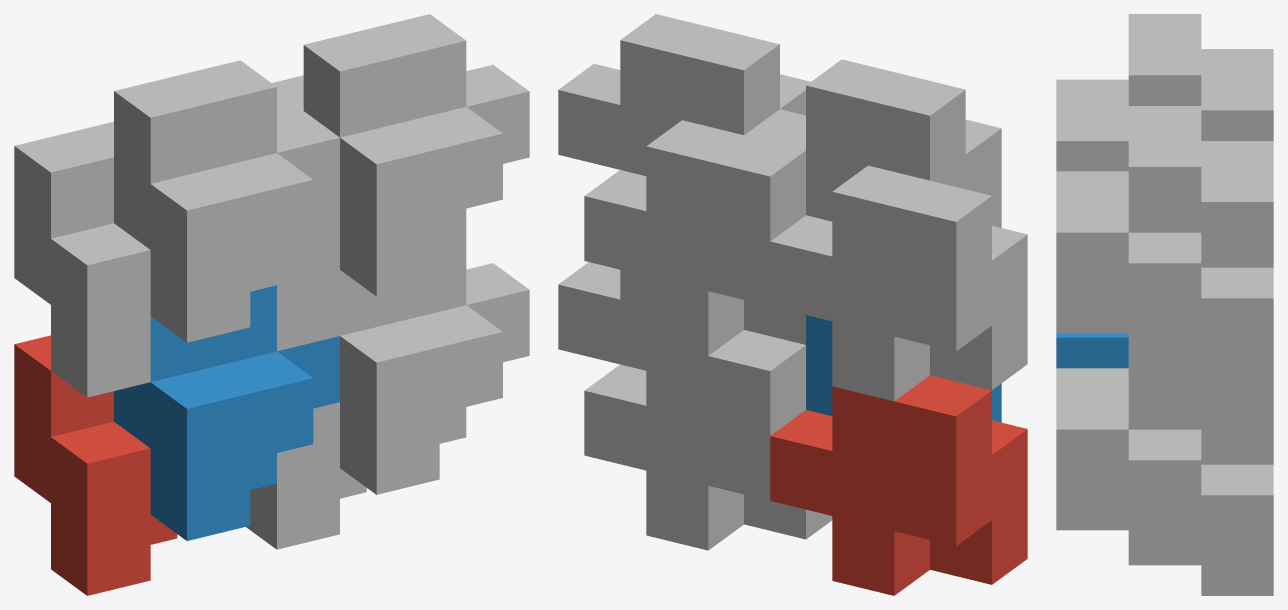
Rendered from tiling.obj.
3 renders of one model, left to right at view 1: azimuth 30°, elevation 25°; view 2: azimuth 150°, elevation 25°; view 3: azimuth 270°, elevation 25°, orthographic.
Parts seen in each view (by area): view 1: copy_1_domain_4, copy_1_domain_8, copy_1_domain_2, copy_1_domain_6, copy_1_domain_3, copy_1_domain_1, copy_1_domain_5, copy_1_domain_7; view 2: copy_1_domain_3, copy_1_domain_1, copy_1_domain_7, copy_1_domain_5, copy_1_domain_8, copy_1_domain_4, copy_1_domain_6, copy_1_domain_2; view 3: copy_1_domain_8, copy_1_domain_6, copy_1_domain_7, copy_1_domain_5, copy_1_domain_4, copy_1_domain_3, copy_1_domain_2.
Part boxes in pixels (box(x1,y1,x2,y2)): copy_1_domain_4: box(114, 60, 339, 342); copy_1_domain_8: box(303, 14, 529, 296); copy_1_domain_2: box(114, 285, 339, 540); copy_1_domain_6: box(340, 239, 529, 494); copy_1_domain_3: box(14, 121, 150, 397); copy_1_domain_1: box(14, 335, 177, 595); copy_1_domain_5: box(246, 402, 366, 549); copy_1_domain_7: box(272, 75, 339, 351); copy_1_domain_3: box(770, 165, 1027, 401); copy_1_domain_1: box(770, 375, 1027, 595); copy_1_domain_7: box(584, 120, 805, 355); copy_1_domain_5: box(584, 330, 832, 550); copy_1_domain_8: box(558, 14, 810, 175); copy_1_domain_4: box(744, 59, 1001, 227); copy_1_domain_6: box(558, 262, 646, 370); copy_1_domain_2: box(806, 315, 1001, 422); copy_1_domain_8: box(1056, 106, 1201, 363); copy_1_domain_6: box(1056, 364, 1201, 560); copy_1_domain_7: box(1201, 141, 1273, 398); copy_1_domain_5: box(1128, 399, 1273, 595); copy_1_domain_4: box(1056, 14, 1201, 171); copy_1_domain_3: box(1201, 49, 1273, 140); copy_1_domain_2: box(1056, 333, 1128, 368).
Size of the model in its own units: 7 by 7 by 3.
